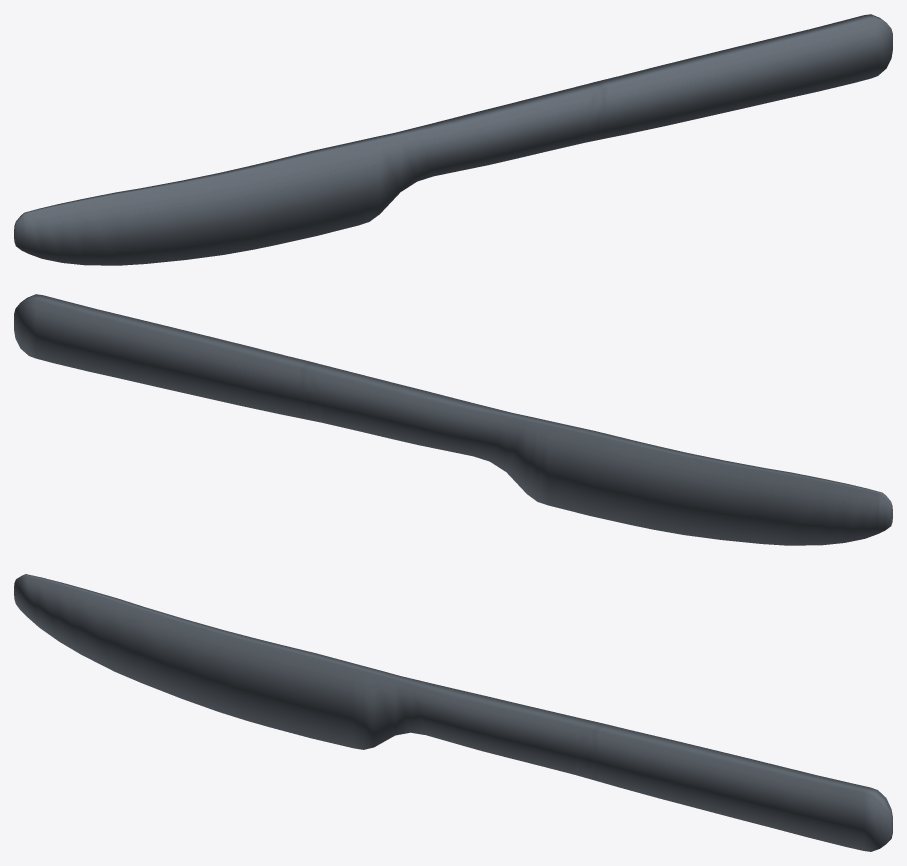
Rendered from mdl_knive05.fbx.
The picture shows the model from 3 angles, top to bottom: view 1: azimuth 30°, elevation 25°; view 2: azimuth 150°, elevation 25°; view 3: azimuth 330°, elevation 25°; orthographic projection.
Parts seen in each view (by area): view 1: knife; view 2: knife; view 3: knife.
Boxes of the visible parts, x1,y1,x2,y2 form: knife: (14, 14, 892, 265); knife: (14, 294, 892, 545); knife: (14, 574, 892, 851).
Size of the model in its own units: 263 by 26.1 by 4.81.
